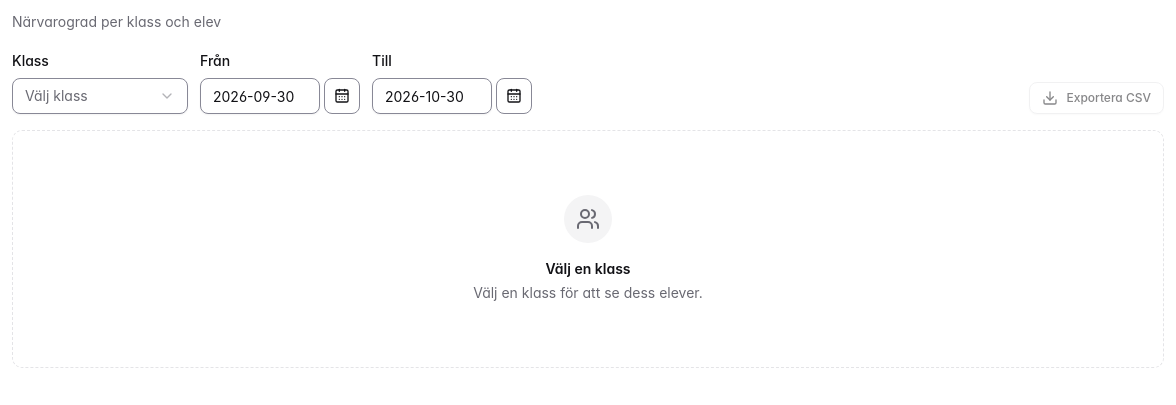
Test: Rapporter › Närvaro › says why the class has no figures when nothing was recorded
The width and height of the screenshot is (1176, 405).
Click the dropdown labelled "klass" at (100, 96), box top-left (12, 78), bottom-right (188, 114)
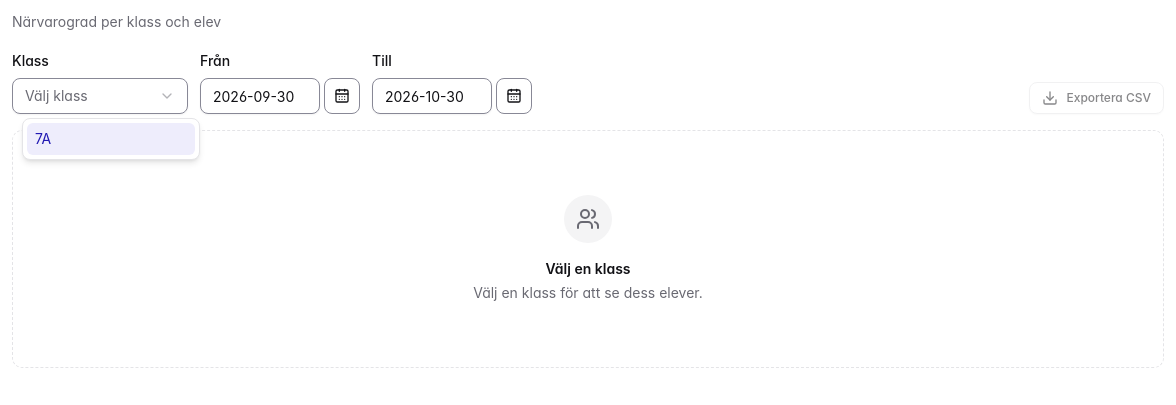
Click the option "7A" at (111, 139), box top-left (27, 123), bottom-right (195, 155)
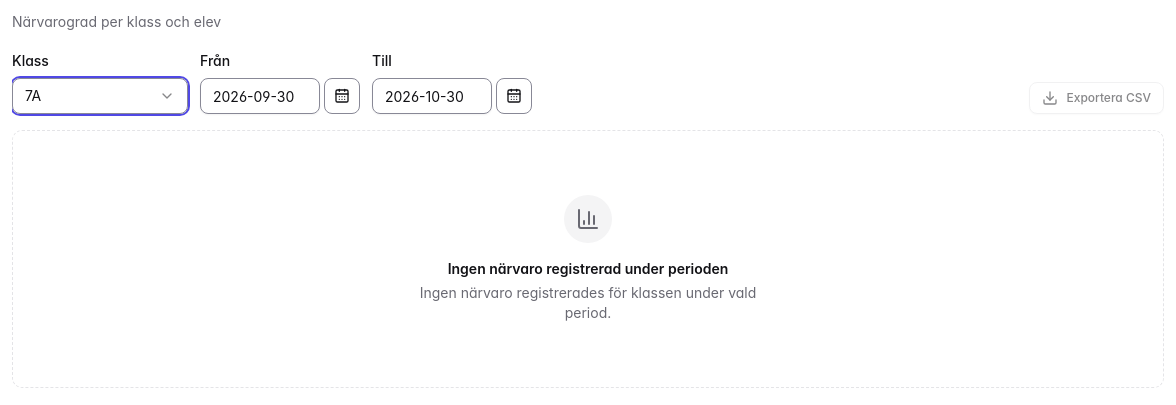
Result: the heading "Ingen närvaro registrerad under perioden" is shown at top-left (448, 259), bottom-right (728, 279)
